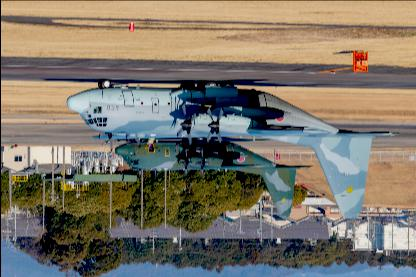Be200: (66, 79, 400, 218), (113, 137, 312, 217)
